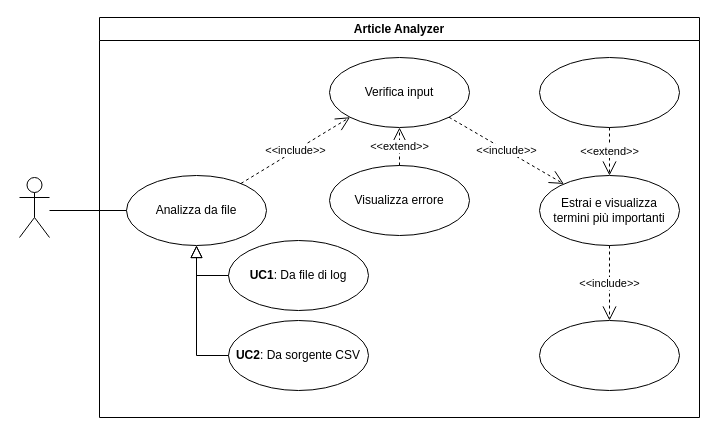
Some shapes in this 717 by 435 pixel diagram are drawn without their labels. The box of each missing label's shape, as (x1, y1, x2, y2) in pixels:
Confronta con blacklist: (538, 56, 680, 128)
Salva i risultati: (538, 320, 680, 390)
Utente: (18, 176, 50, 238)
